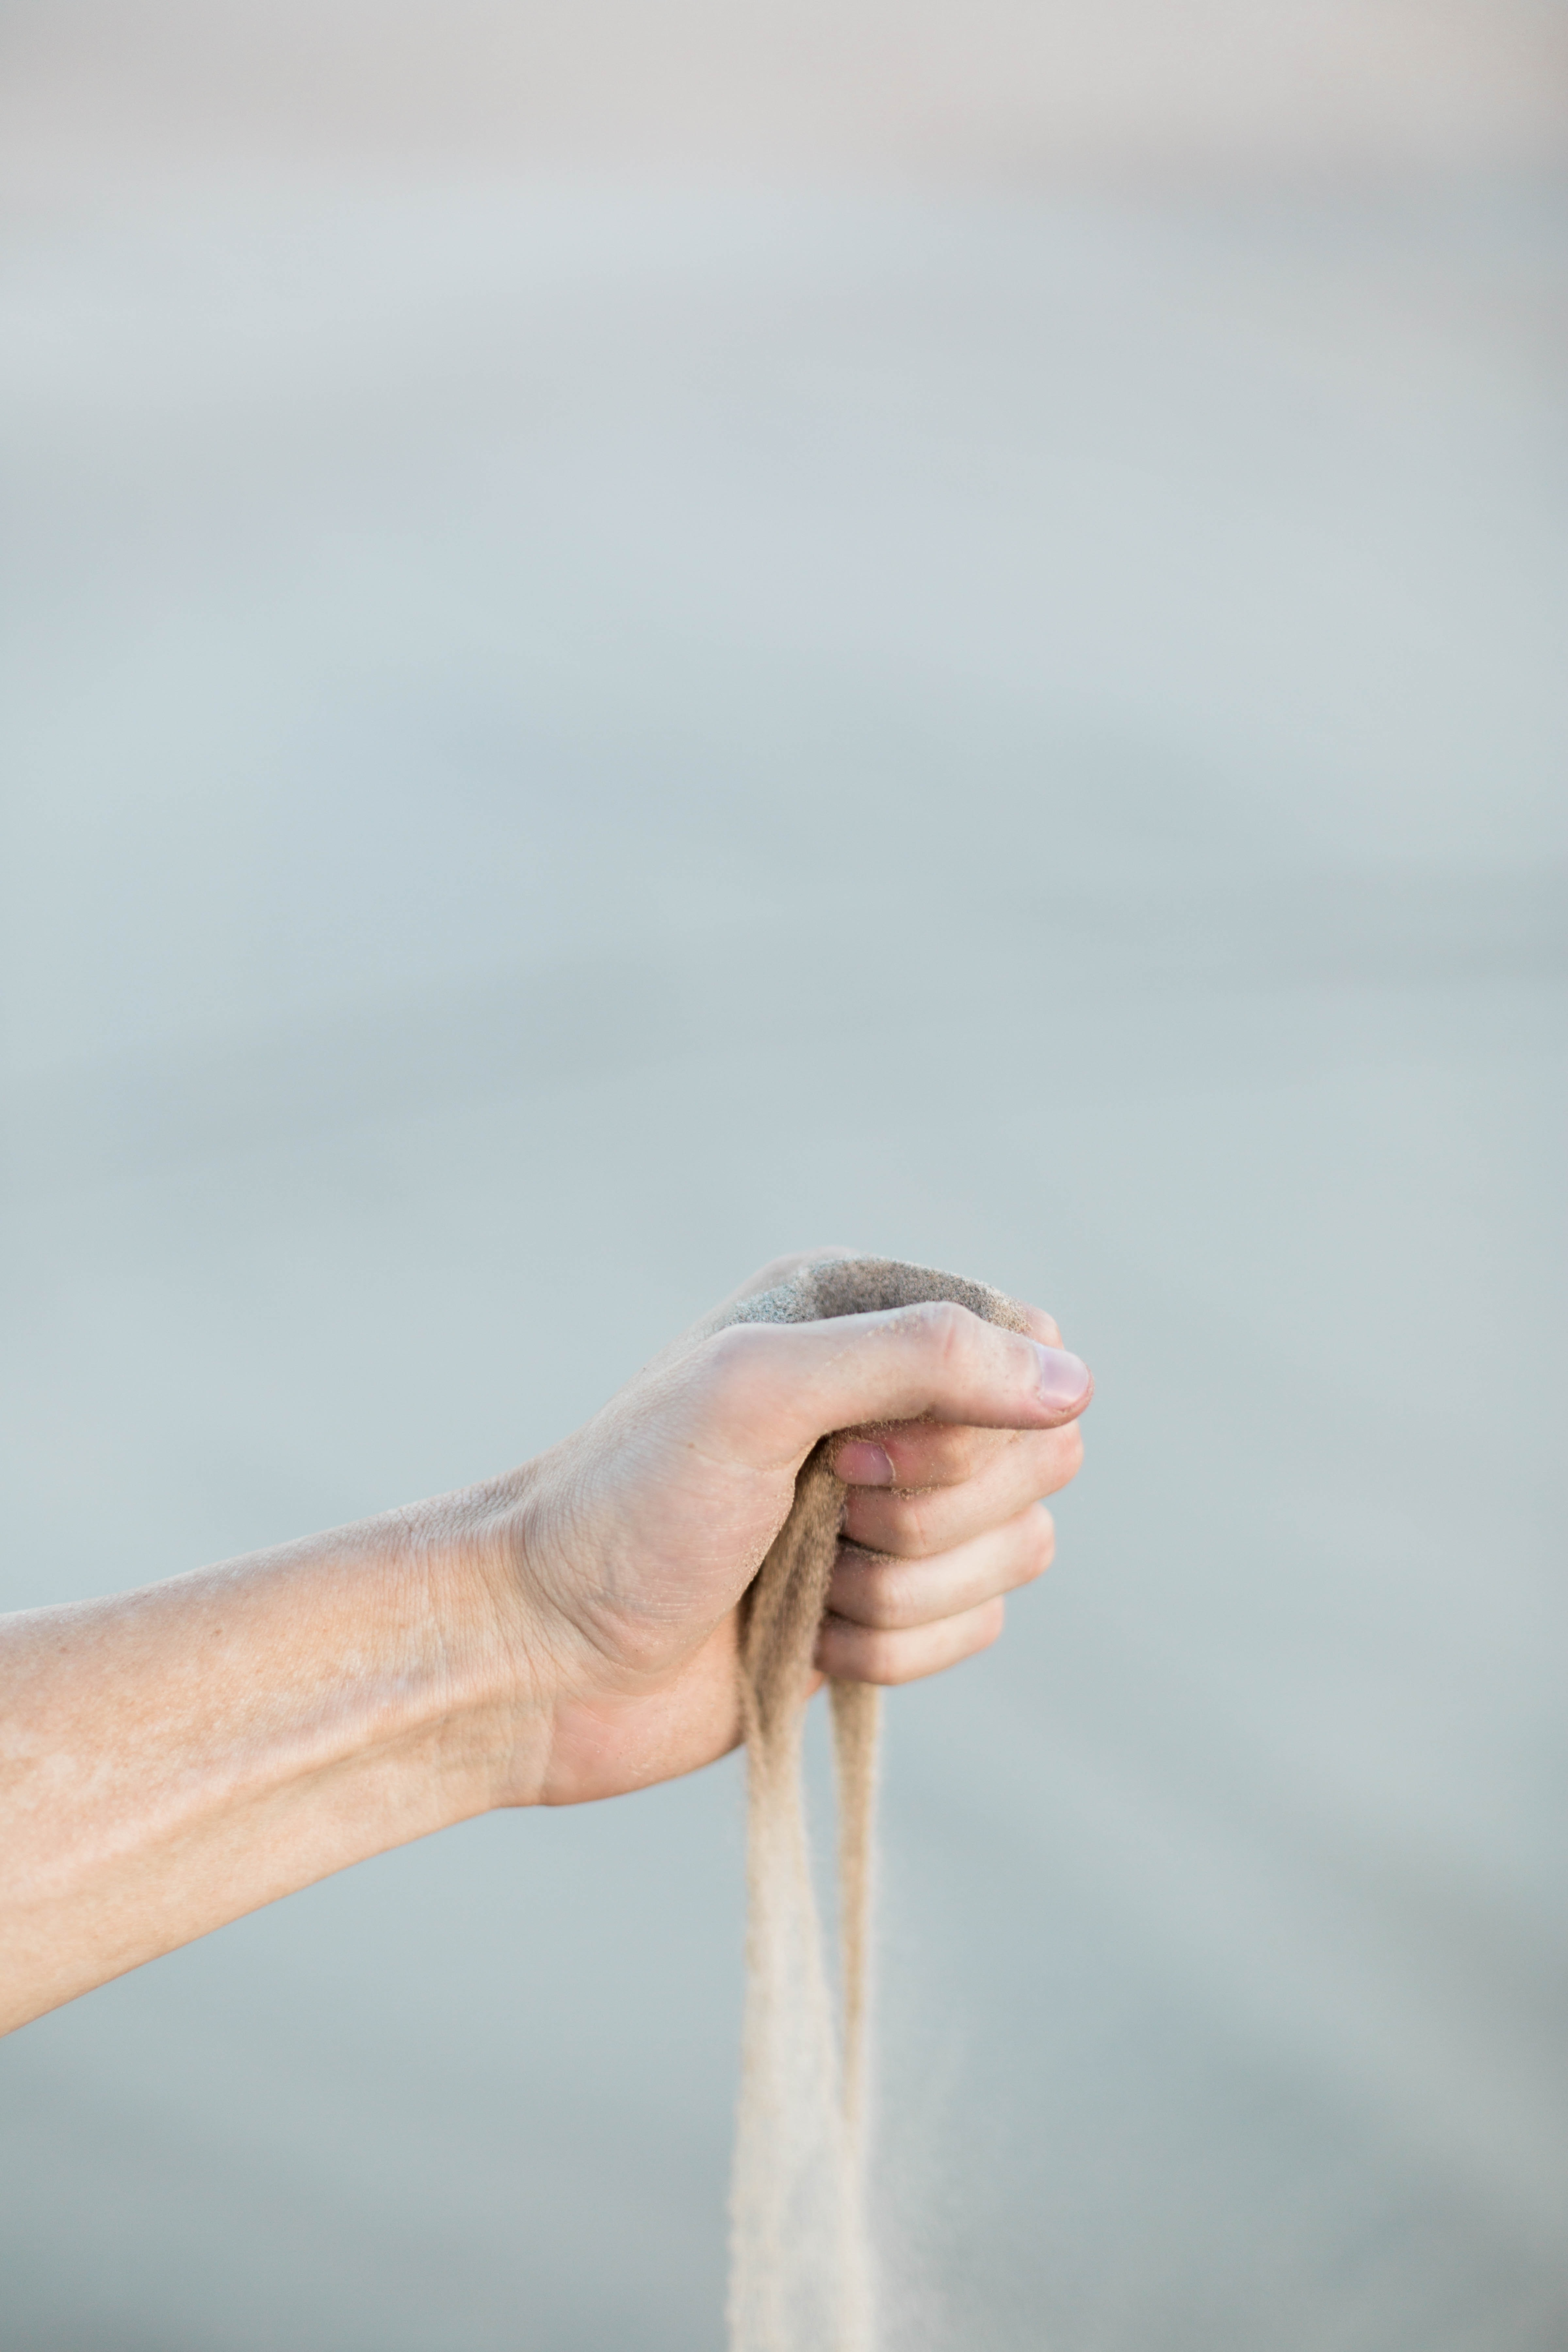fist: (607, 1248, 1052, 1783)
